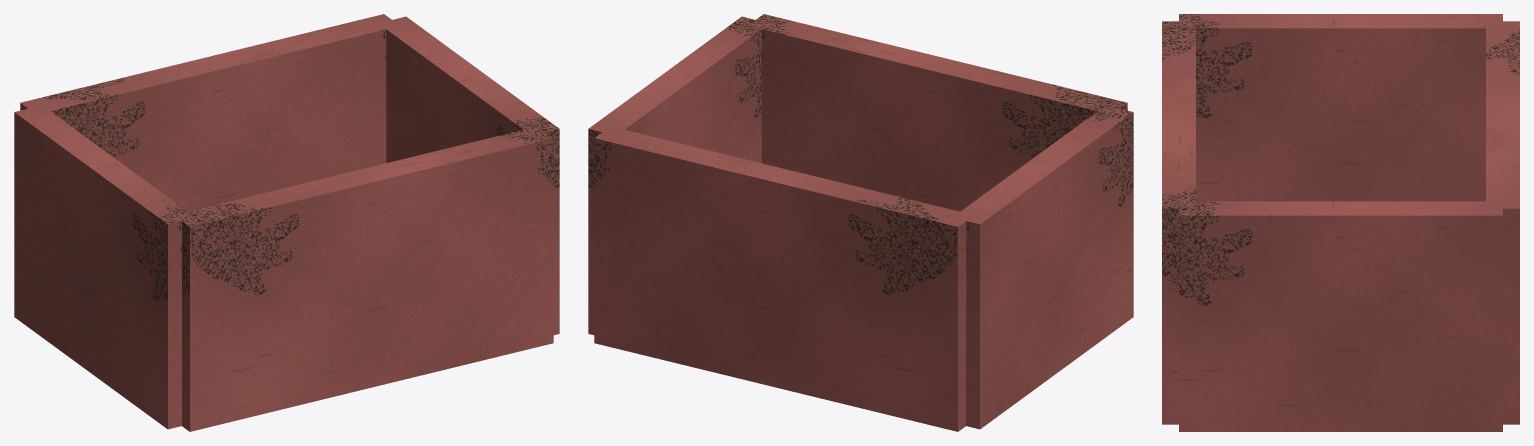
The model's file is crate2_v4.glb.
3 renders of one model, left to right at view 1: azimuth 30°, elevation 25°; view 2: azimuth 150°, elevation 25°; view 3: azimuth 270°, elevation 25°, orthographic. The views are drawn at different scales.
Parts seen in each view (by area): view 1: Variant_crate2_4; view 2: Variant_crate2_4; view 3: Variant_crate2_4.
Boxes of the visible parts, x1,y1,x2,y2 form: Variant_crate2_4: (14,14,559,431); Variant_crate2_4: (588,14,1133,431); Variant_crate2_4: (1162,14,1519,431).
Bounding box in the file's own units: 0.56 × 0.28 × 0.42.
1 material, 1 textured.
